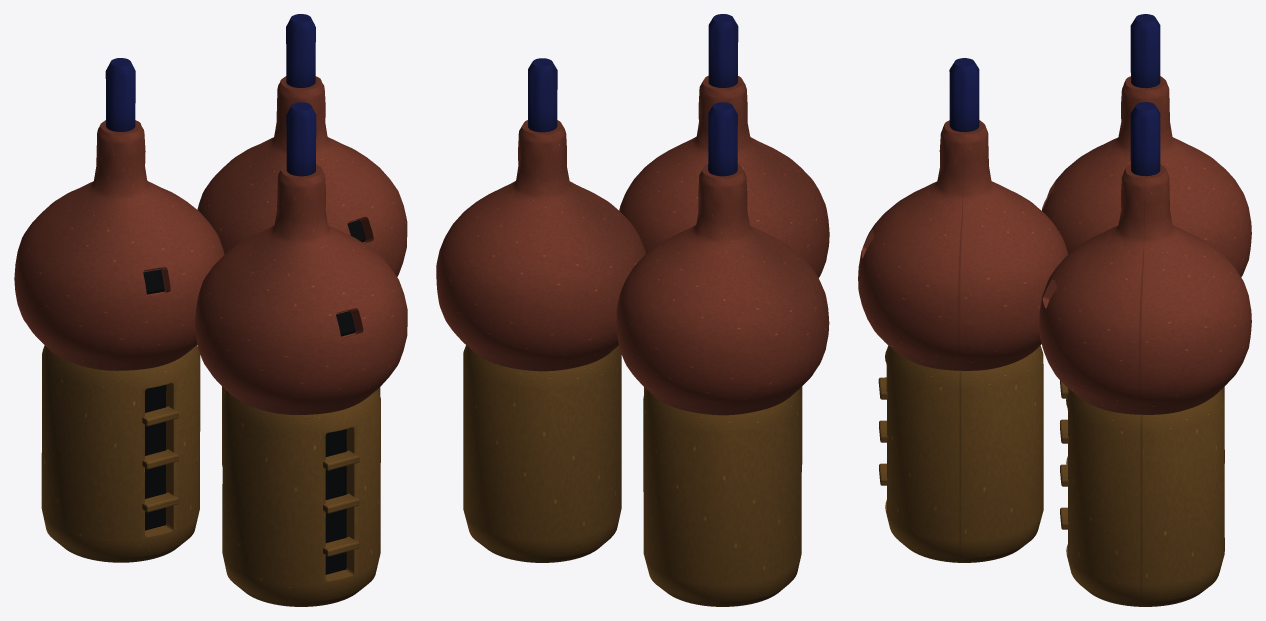
3 views of the same model, side by side, from view 1: azimuth 30°, elevation 25°; view 2: azimuth 150°, elevation 25°; view 3: azimuth 270°, elevation 25° (orthographic).
Visible parts, largest first — view 1: AC24 joined coral shoulder 2, AC24 joined coral shoulder 0, AC24 grounded ochre casing 2, AC24 grounded ochre casing 0, AC24 joined coral shoulder 1, AC24 dark vertical casing recess 2, AC24 dark vertical casing recess 0, AC24 short blue violet tip 2, AC24 short blue violet tip 0, AC24 short blue violet tip 1; view 2: AC24 joined coral shoulder 0, AC24 joined coral shoulder 1, AC24 grounded ochre casing 1, AC24 grounded ochre casing 0, AC24 joined coral shoulder 2, AC24 short blue violet tip 2, AC24 short blue violet tip 0, AC24 short blue violet tip 1; view 3: AC24 joined coral shoulder 1, AC24 joined coral shoulder 2, AC24 grounded ochre casing 2, AC24 grounded ochre casing 1, AC24 joined coral shoulder 0, AC24 short blue violet tip 2, AC24 short blue violet tip 0, AC24 short blue violet tip 1.
Part boxes in pixels (left/top/right/bottom): AC24 joined coral shoulder 2: left=195, top=164, right=407, bottom=414; AC24 joined coral shoulder 0: left=14, top=120, right=224, bottom=370; AC24 grounded ochre casing 2: left=222, top=389, right=380, bottom=606; AC24 grounded ochre casing 0: left=41, top=345, right=200, bottom=562; AC24 joined coral shoulder 1: left=197, top=76, right=407, bottom=276; AC24 dark vertical casing recess 2: left=325, top=429, right=346, bottom=574; AC24 dark vertical casing recess 0: left=145, top=385, right=166, bottom=530; AC24 short blue violet tip 2: left=286, top=102, right=316, bottom=176; AC24 short blue violet tip 0: left=105, top=58, right=135, bottom=131; AC24 short blue violet tip 1: left=286, top=14, right=315, bottom=87; AC24 joined coral shoulder 0: left=616, top=164, right=829, bottom=415; AC24 joined coral shoulder 1: left=436, top=120, right=645, bottom=371; AC24 grounded ochre casing 1: left=463, top=345, right=621, bottom=562; AC24 grounded ochre casing 0: left=643, top=389, right=801, bottom=606; AC24 joined coral shoulder 2: left=619, top=75, right=829, bottom=277; AC24 short blue violet tip 2: left=708, top=14, right=738, bottom=87; AC24 short blue violet tip 0: left=708, top=102, right=737, bottom=176; AC24 short blue violet tip 1: left=528, top=58, right=557, bottom=132; AC24 joined coral shoulder 1: left=1039, top=164, right=1251, bottom=414; AC24 joined coral shoulder 2: left=858, top=120, right=1068, bottom=370; AC24 grounded ochre casing 2: left=885, top=345, right=1043, bottom=562; AC24 grounded ochre casing 1: left=1066, top=389, right=1224, bottom=606; AC24 joined coral shoulder 0: left=1042, top=76, right=1251, bottom=277; AC24 short blue violet tip 2: left=949, top=58, right=979, bottom=132; AC24 short blue violet tip 0: left=1130, top=14, right=1160, bottom=88; AC24 short blue violet tip 1: left=1130, top=102, right=1160, bottom=176.
Bounding box in the file's own units: 1.86 × 2.31 × 1.74.
4 materials, 4 textured.
